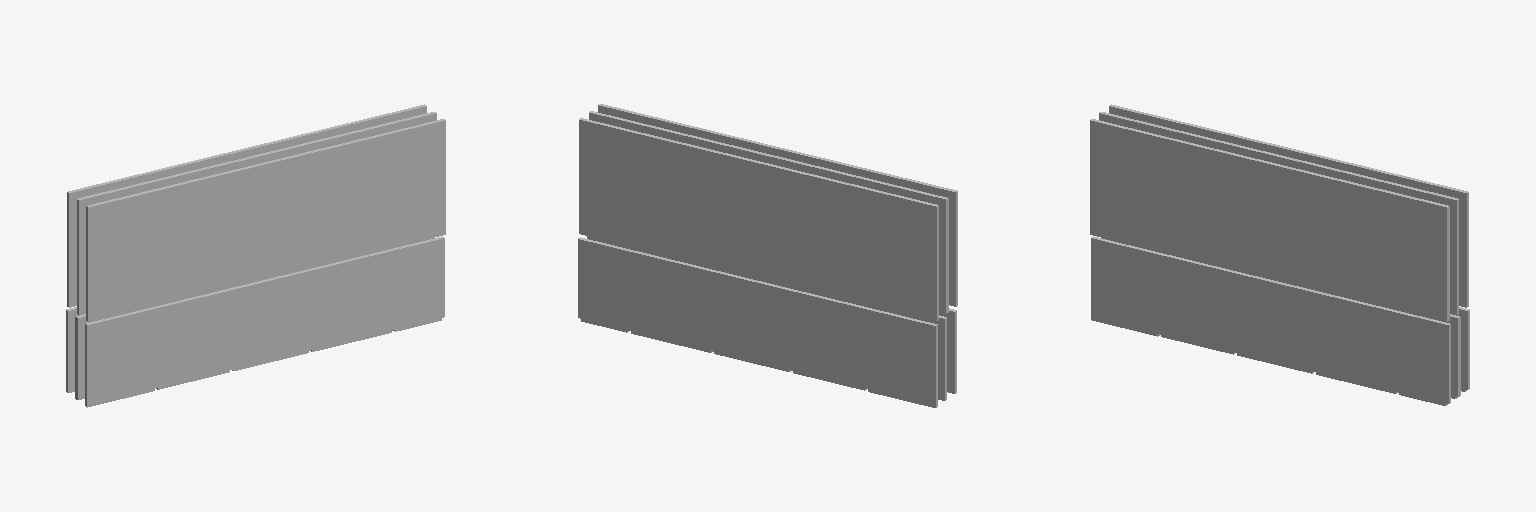
The model's file is ResultsIfcSlab.obj.
The picture shows the model from 3 angles: view 1: azimuth 30°, elevation 25°; view 2: azimuth 150°, elevation 25°; view 3: azimuth 330°, elevation 25°; orthographic projection.
Parts seen in each view (by area): view 1: 3; view 2: 3; view 3: 3.
Part boxes in pixels (x1,y1,x2,y2): 3: (66,104,445,407); 3: (578,104,957,407); 3: (1090,104,1469,405).
Size of the model in its own units: 69.29 by 37.16 by 7.65.